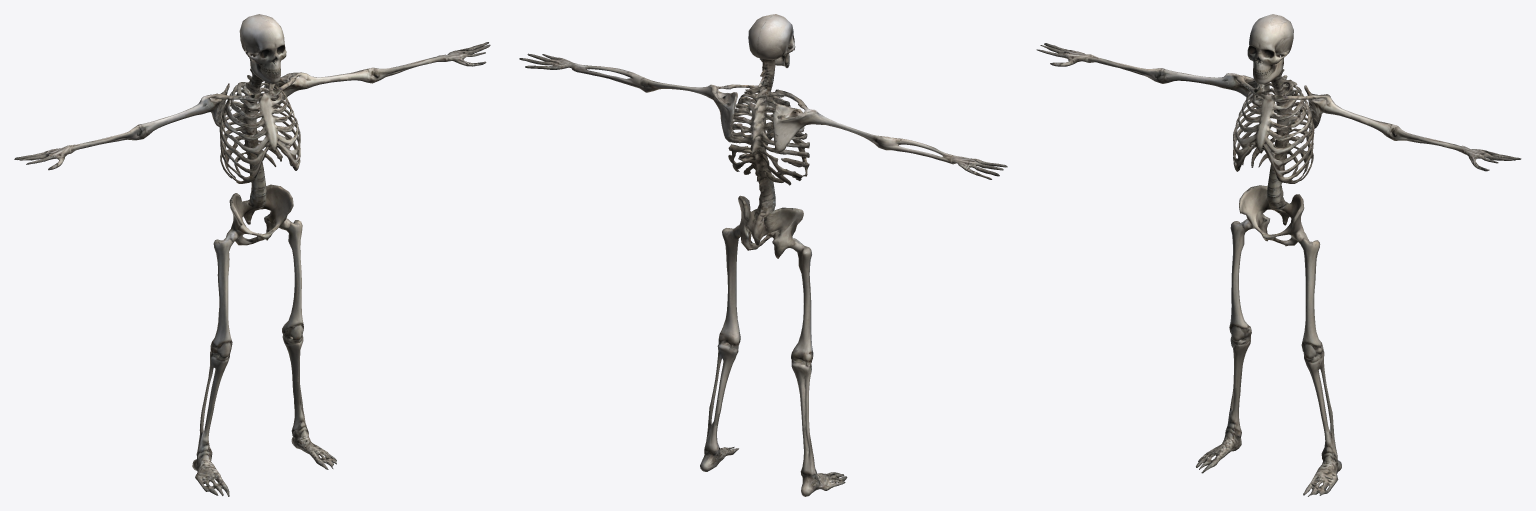
File: skeleton_t_pose.glb
The picture shows the model from 3 angles, left to right: view 1: azimuth 30°, elevation 25°; view 2: azimuth 150°, elevation 25°; view 3: azimuth 330°, elevation 25°; orthographic projection.
Parts seen in each view (by area): view 1: Object_4; view 2: Object_4; view 3: Object_4.
Part boxes in pixels (x1,y1,x2,y2): Object_4: (14,14,490,496); Object_4: (519,14,1007,496); Object_4: (1036,14,1521,496).
Bounding box in the file's own units: 2.03 × 1.84 × 0.2698.
Materials: 1 (1 with a texture image).
